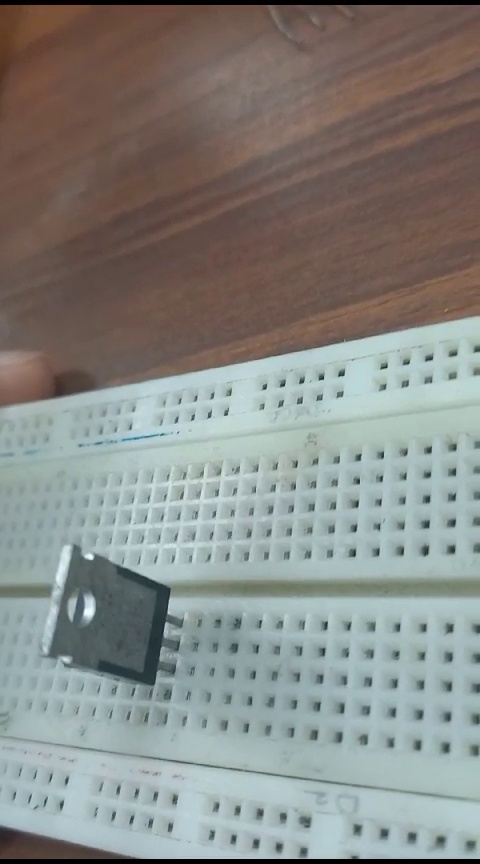voltage regulator: (36, 532, 189, 701)
